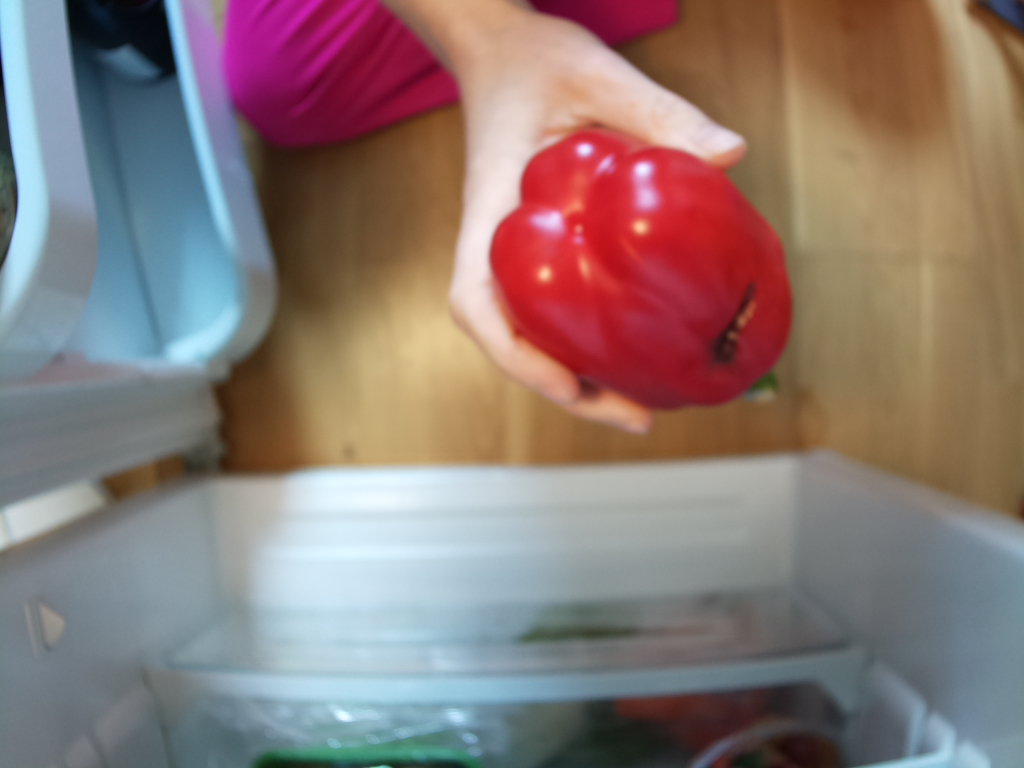pepper-bad: (483, 114, 822, 414)
